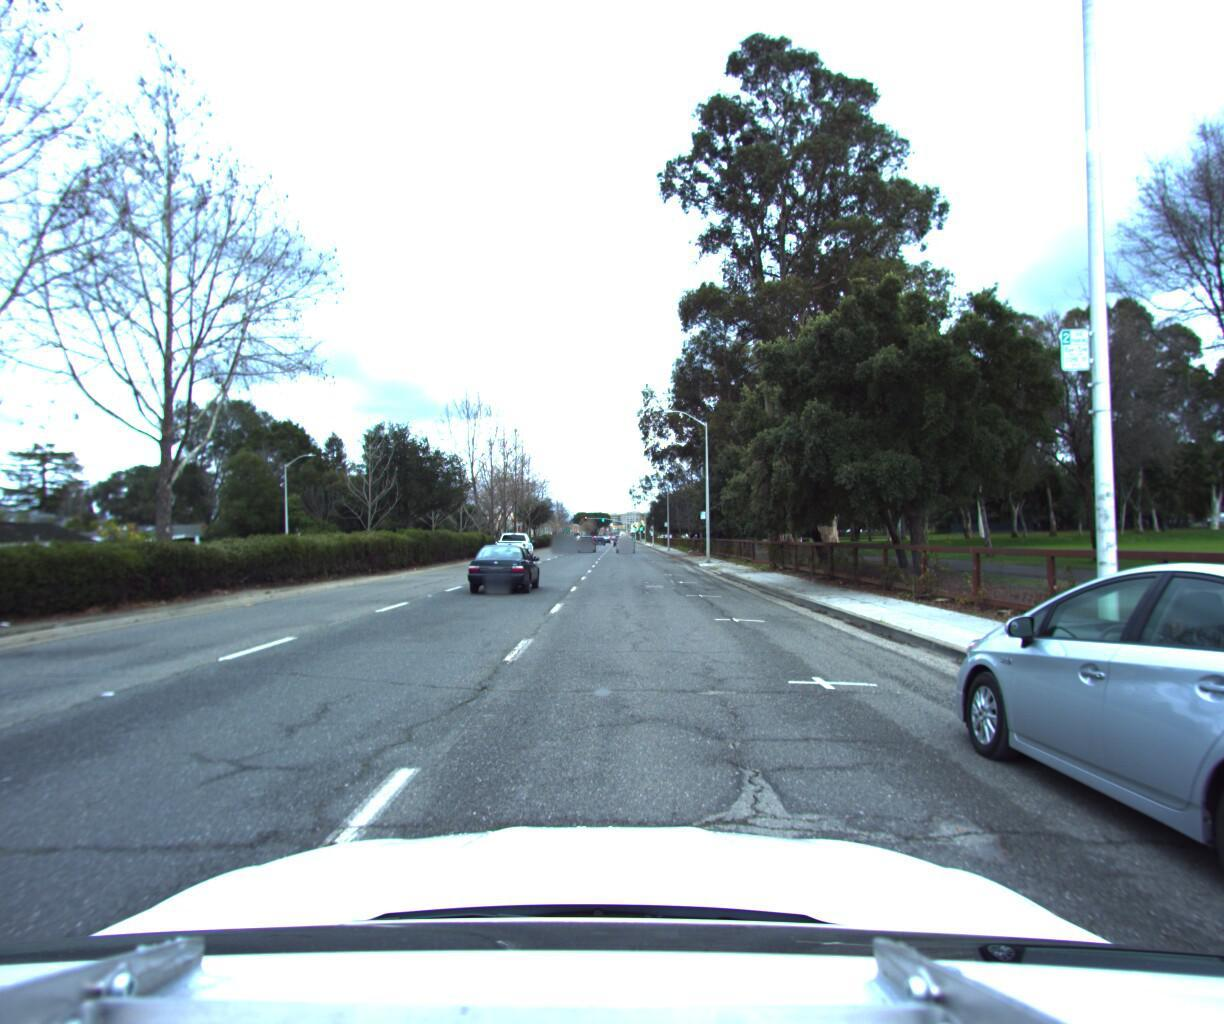car: (935, 549, 1224, 1024), (467, 547, 545, 599), (493, 538, 537, 570), (576, 541, 595, 559), (616, 544, 635, 561)
